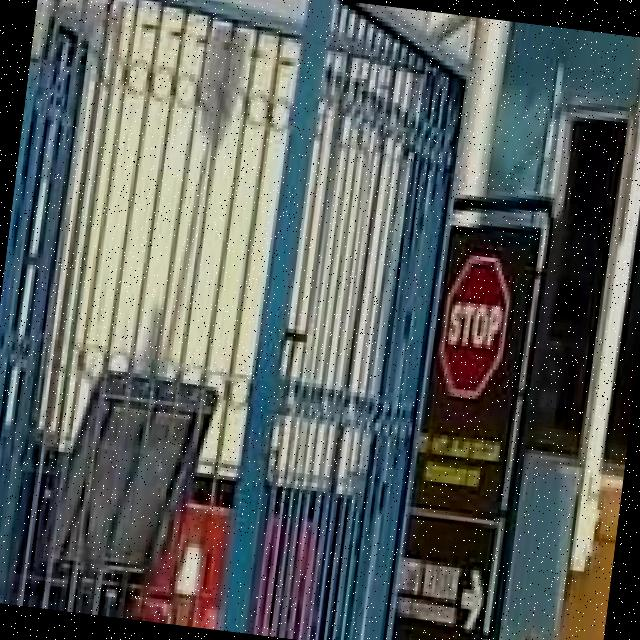Stop: (438, 245, 516, 405)
